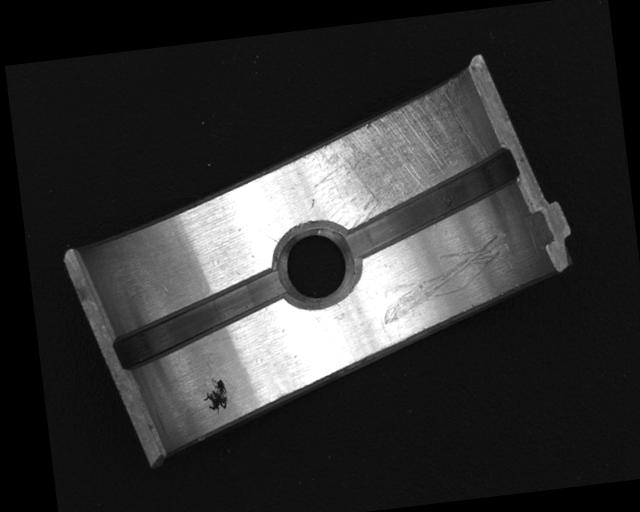blot: (198, 375, 232, 415)
gap: (334, 145, 527, 262), (107, 269, 293, 374)
hole: (274, 226, 356, 310)
nick: (372, 231, 513, 325)
scratch: (301, 73, 490, 237)
